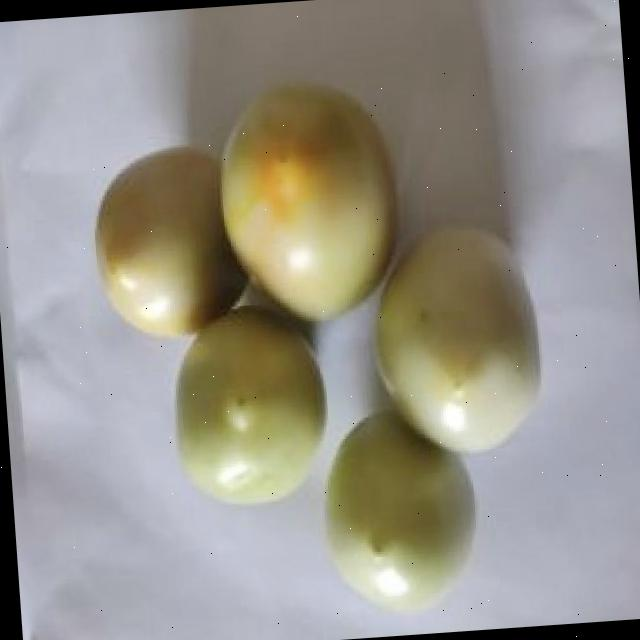tomato: (220, 78, 397, 322), (372, 228, 543, 452), (319, 402, 481, 614), (175, 306, 327, 507), (94, 146, 249, 336)
